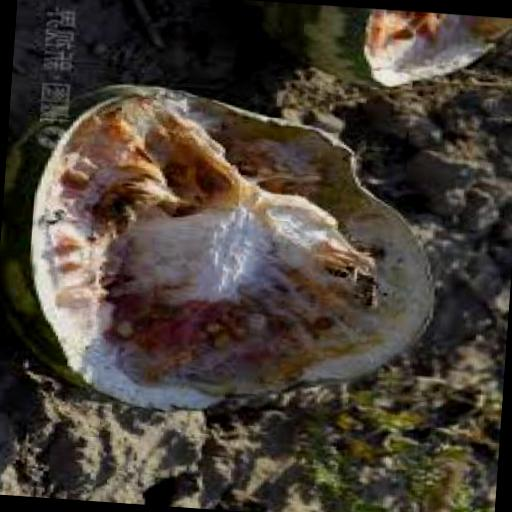biodegradable: (0, 76, 452, 431), (243, 0, 512, 100)
